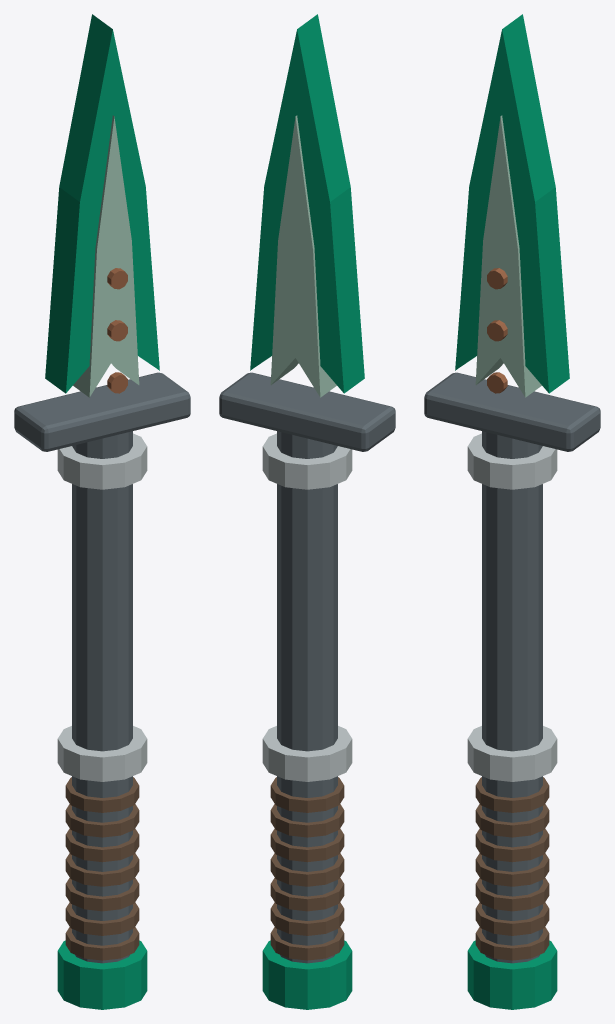
Rendered from Pike.fbx.
The picture shows the model from 3 angles, left to right: view 1: azimuth 30°, elevation 25°; view 2: azimuth 150°, elevation 25°; view 3: azimuth 330°, elevation 25°; orthographic projection.
Visible parts, largest first — view 1: Manche.005, Silhouette.005, Garde.005, Noyau.005, Pommeau.005, Collier.010, Collier.011, Bande_06.005, Bande_03.005, Bande_04.005, Bande_01.005, Bande_02.005 (+2 smaller); view 2: Manche.005, Silhouette.005, Noyau.005, Garde.005, Pommeau.005, Collier.010, Collier.011, Bande_06.005, Bande_03.005, Bande_04.005, Bande_01.005, Bande_02.005 (+2 smaller); view 3: Manche.005, Silhouette.005, Garde.005, Noyau.005, Pommeau.005, Collier.010, Collier.011, Bande_06.005, Bande_03.005, Bande_04.005, Bande_01.005, Bande_02.005 (+2 smaller).
Part boxes in pixels (left/top/right/bottom): Manche.005: left=72, top=431, right=132, bottom=963; Silhouette.005: left=45, top=14, right=159, bottom=393; Garde.005: left=14, top=372, right=190, bottom=451; Noyau.005: left=73, top=115, right=139, bottom=397; Pommeau.005: left=57, top=940, right=147, bottom=1009; Collier.010: left=57, top=726, right=147, bottom=781; Collier.011: left=57, top=433, right=147, bottom=489; Bande_06.005: left=65, top=777, right=139, bottom=812; Bande_03.005: left=65, top=853, right=139, bottom=886; Bande_04.005: left=65, top=828, right=139, bottom=862; Bande_01.005: left=65, top=902, right=139, bottom=935; Bande_02.005: left=65, top=878, right=139, bottom=911; Manche.005: left=277, top=431, right=337, bottom=963; Silhouette.005: left=250, top=14, right=364, bottom=393; Noyau.005: left=270, top=115, right=336, bottom=397; Garde.005: left=219, top=372, right=395, bottom=451; Pommeau.005: left=262, top=940, right=352, bottom=1009; Collier.010: left=262, top=726, right=352, bottom=781; Collier.011: left=262, top=433, right=352, bottom=489; Bande_06.005: left=270, top=777, right=344, bottom=812; Bande_03.005: left=270, top=853, right=344, bottom=886; Bande_04.005: left=270, top=828, right=344, bottom=862; Bande_01.005: left=270, top=902, right=344, bottom=935; Bande_02.005: left=270, top=878, right=344, bottom=911; Manche.005: left=482, top=431, right=542, bottom=963; Silhouette.005: left=455, top=14, right=569, bottom=393; Garde.005: left=424, top=372, right=600, bottom=451; Noyau.005: left=475, top=115, right=541, bottom=397; Pommeau.005: left=467, top=940, right=557, bottom=1009; Collier.010: left=467, top=726, right=557, bottom=781; Collier.011: left=467, top=433, right=557, bottom=489; Bande_06.005: left=475, top=777, right=549, bottom=812; Bande_03.005: left=475, top=853, right=549, bottom=886; Bande_04.005: left=475, top=828, right=549, bottom=862; Bande_01.005: left=475, top=902, right=549, bottom=935; Bande_02.005: left=475, top=878, right=549, bottom=911.
Size of the model in its own units: 54 by 335 by 28.
